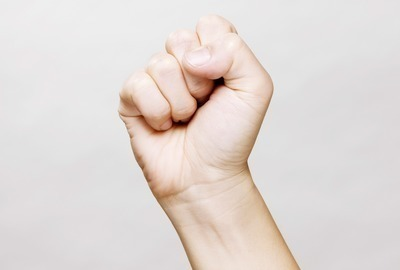closedhandfront: (99, 13, 275, 197)
